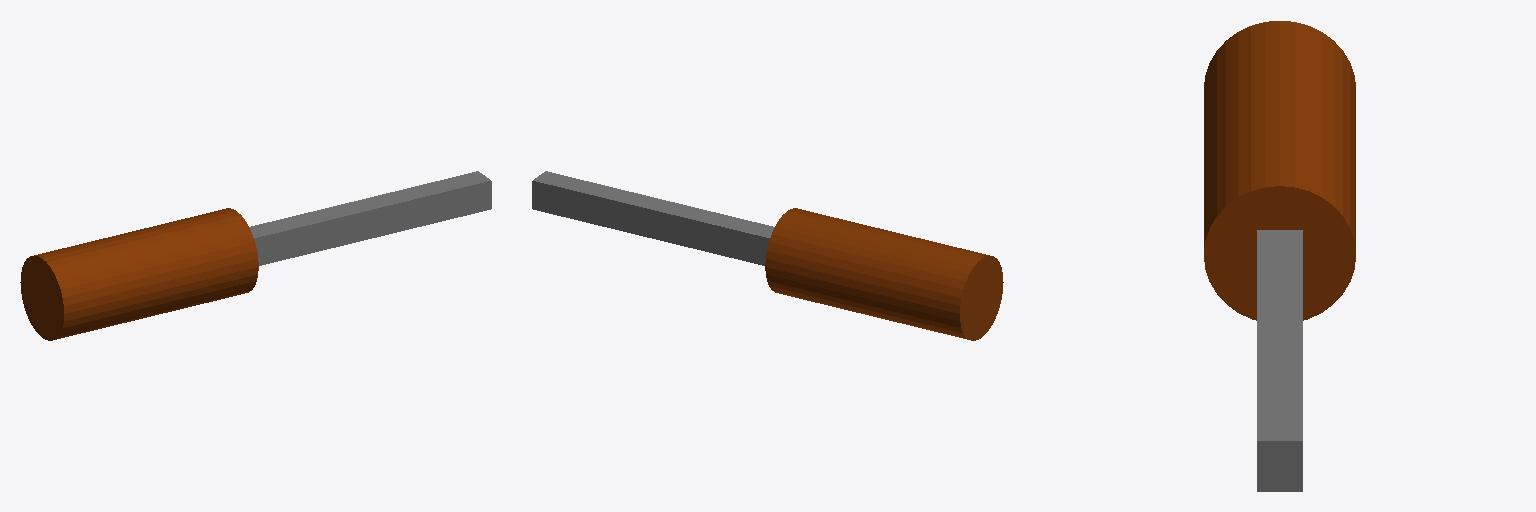
URDF robot description (handle_head):
<?xml version="1.0"?>
<robot name="handle_head">

  <link name="handle_head">
    <!-- Handle -->
    <visual>
              <origin xyz="0 0 0" rpy="0 -1.5707963267948966 0"/>
        <geometry>
          <cylinder length="0.0912487328786081" radius="0.017771324786476972"/>
        </geometry>
        
      <material name="brown">
        <color rgba="0.55 0.27 0.07 1.0"/>
      </material>
    </visual>
    <collision>
              <origin xyz="0 0 0" rpy="0 -1.5707963267948966 0"/>
        <geometry>
          <cylinder length="0.0912487328786081" radius="0.017771324786476972"/>
        </geometry>
        
    </collision>

    <!-- Head -->
    <visual>
              <origin xyz="0.10382678768698408 0 0" rpy="0 0 0"/>
        <geometry>
          <box size="0.11640484249536007 0.010627301400641624 0.012930132043966916"/>
        </geometry>
        
      <material name="gray">
        <color rgba="0.5 0.5 0.5 1.0"/>
      </material>
    </visual>
    <collision>
              <origin xyz="0.10382678768698408 0 0" rpy="0 0 0"/>
        <geometry>
          <box size="0.11640484249536007 0.010627301400641624 0.012930132043966916"/>
        </geometry>
        
    </collision>

    <inertial>
      <origin xyz="0.03988642474146745 0 0" rpy="0 0 0"/>
      <mass value="0.07958874886221458"/>
      <inertia ixx="8.134392334639449e-06" iyy="0.0002964528017557502" izz="0.00029631458009829497" ixy="0" ixz="0" iyz="0"/>
    </inertial>
  </link>

</robot>

--- Render facts (derived) ---
Views: 3 orthographic renders of the robot side by side, from view 1: azimuth 30°, elevation 25°; view 2: azimuth 150°, elevation 25°; view 3: azimuth 270°, elevation 25°.
Model handle_head with 1 links and 0 joints (none), rooted at handle_head, posed all joints at 0.
Links seen in each view (by area): view 1: handle_head; view 2: handle_head; view 3: handle_head.
Boxes of the visible links, x1,y1,x2,y2 form: handle_head: (20,171,491,340); handle_head: (532,171,1003,340); handle_head: (1204,21,1355,491).
Bounding box of the posed robot: 0.2077 × 0.0355 × 0.0355 m (x, y, z).
Geometry: primitives only (box / cylinder / sphere), no mesh files.
